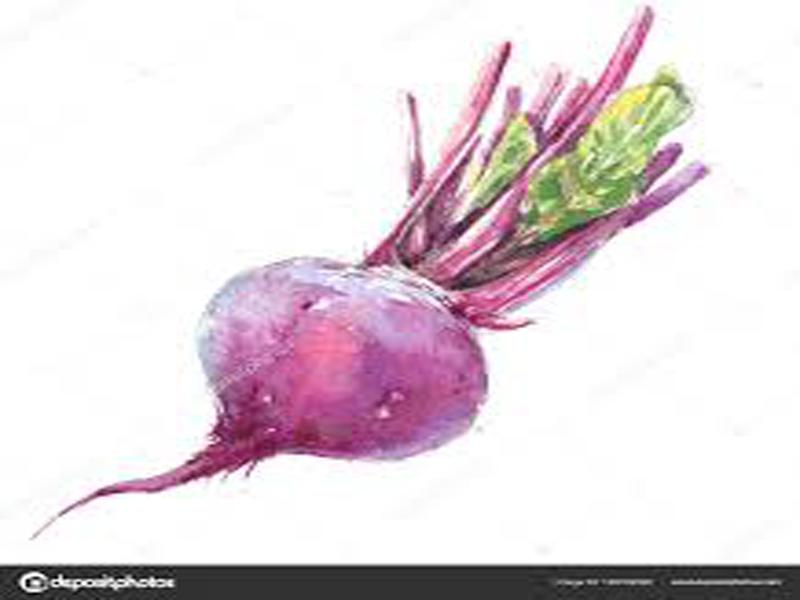Beet: (33, 5, 708, 538)
